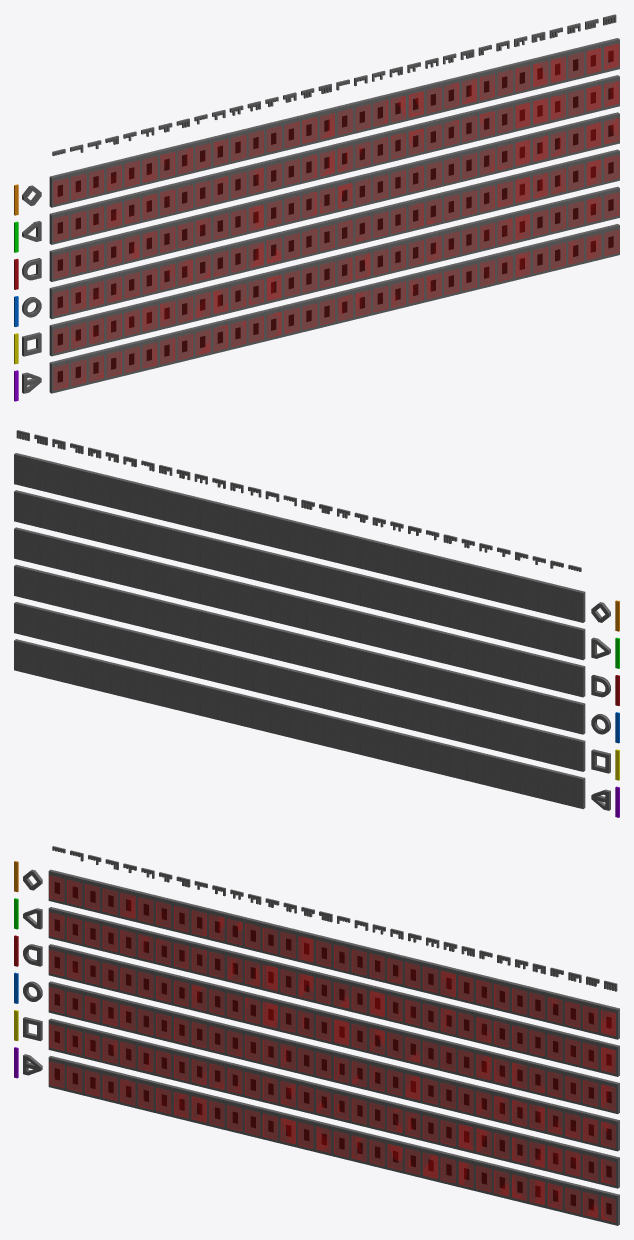
The model's file is Keys Panel.fbx.
The picture shows the model from 3 angles, top to bottom: view 1: azimuth 30°, elevation 25°; view 2: azimuth 150°, elevation 25°; view 3: azimuth 330°, elevation 25°; orthographic projection.
Visible parts, largest first — view 1: Cube.068, Cube.035, Cube.100, Cube.164, Cube.000, Cube.132, Cube.052, Cube.008, Cube.013, Cube.017, Cube.029, Cube.045 (+180 smaller); view 2: Cube.035, Cube.164, Cube.000, Cube.068, Cube.100, Cube.132, Cube.004, Cube.006, Cube.039, Cube.050, Cube.056, Cube.064 (+180 smaller); view 3: Cube.042, Cube.067, Cube.163, Cube.131, Cube.195, Cube.099, Cube.010, Cube.023, Cube.046, Cube.128, Cube.155, Cube.157 (+180 smaller).
Part boxes in pixels (box(x1,y1,x2,y2)): Cube.068: box(49, 246, 69, 281); Cube.035: box(49, 209, 69, 244); Cube.100: box(49, 284, 69, 319); Cube.164: box(49, 358, 69, 393); Cube.000: box(49, 172, 69, 207); Cube.132: box(49, 321, 69, 356); Cube.052: box(334, 140, 353, 175); Cube.008: box(192, 137, 211, 172); Cube.013: box(280, 116, 300, 151); Cube.017: box(352, 98, 371, 133); Cube.029: box(565, 46, 584, 81); Cube.045: box(210, 170, 229, 205); Cube.035: box(565, 624, 585, 660); Cube.164: box(565, 773, 585, 809); Cube.000: box(565, 587, 585, 622); Cube.068: box(565, 662, 585, 697); Cube.100: box(565, 699, 585, 734); Cube.132: box(565, 736, 585, 771); Cube.004: box(494, 570, 513, 605); Cube.006: box(458, 561, 478, 596); Cube.039: box(494, 607, 513, 642); Cube.050: box(316, 564, 335, 599); Cube.056: box(209, 538, 229, 573); Cube.064: box(67, 503, 86, 538); Cube.042: box(600, 1004, 619, 1039); Cube.067: box(600, 1041, 619, 1076); Cube.163: box(600, 1153, 619, 1188); Cube.131: box(600, 1116, 619, 1151); Cube.195: box(600, 1190, 619, 1225); Cube.099: box(600, 1078, 619, 1113); Cube.010: box(226, 913, 245, 948); Cube.023: box(457, 969, 477, 1004); Cube.046: box(226, 950, 245, 985); Cube.128: box(546, 1103, 566, 1138); Cube.155: box(457, 1118, 477, 1153); Cube.157: box(493, 1127, 512, 1162).
Bounding box in the file's own units: 3.4 × 1.29 × 0.04.
